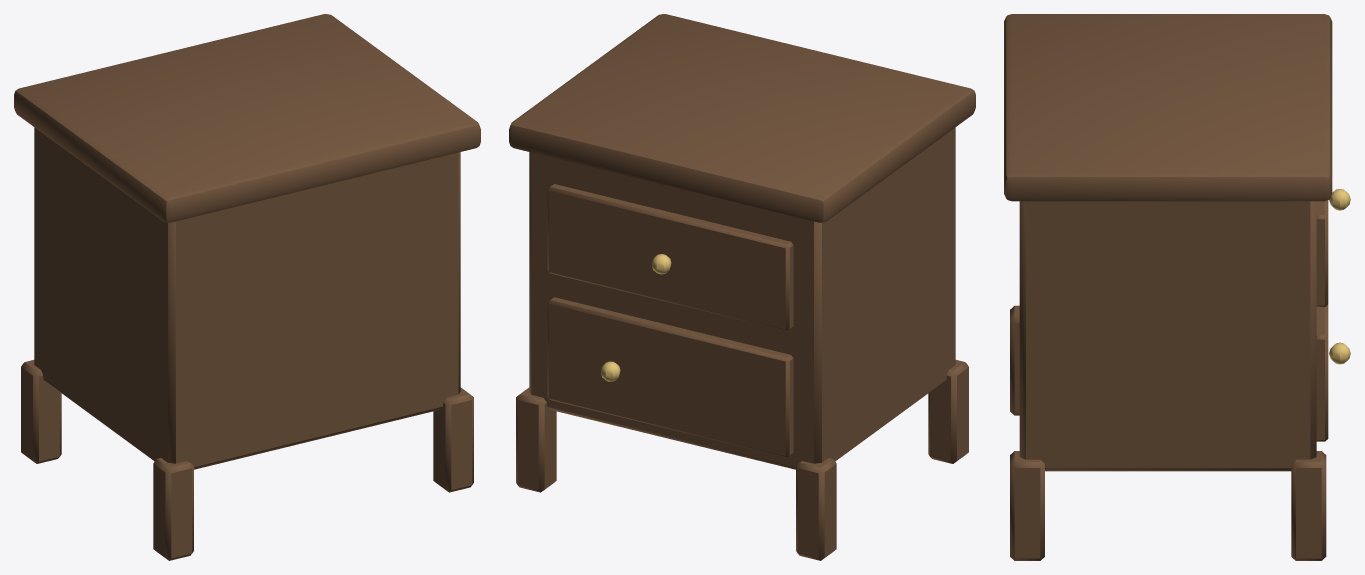
File: arr_comodino.fbx
3 views of the same model, side by side, from view 1: azimuth 30°, elevation 25°; view 2: azimuth 150°, elevation 25°; view 3: azimuth 270°, elevation 25° (orthographic). The views are drawn at different scales.
Parts seen in each view (by area): view 1: arr_comodino_noce; view 2: arr_comodino_noce, arr_comodino_ottone; view 3: arr_comodino_noce, arr_comodino_ottone.
Part boxes in pixels (bbox=[...]): arr_comodino_noce: bbox=[14, 14, 480, 560]; arr_comodino_noce: bbox=[509, 14, 975, 560]; arr_comodino_ottone: bbox=[601, 254, 671, 381]; arr_comodino_noce: bbox=[1004, 14, 1332, 560]; arr_comodino_ottone: bbox=[1329, 189, 1350, 364].
Bounding box in the file's own units: 0.5 × 0.55 × 0.444.
